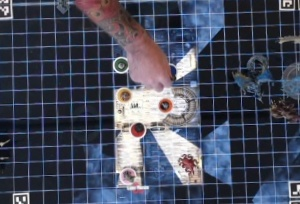blue: (161, 61, 178, 78)
green: (111, 53, 131, 73)
orange: (154, 95, 173, 113)
pink: (118, 165, 138, 184)
red: (128, 120, 146, 138)
yellow: (115, 85, 132, 104)
